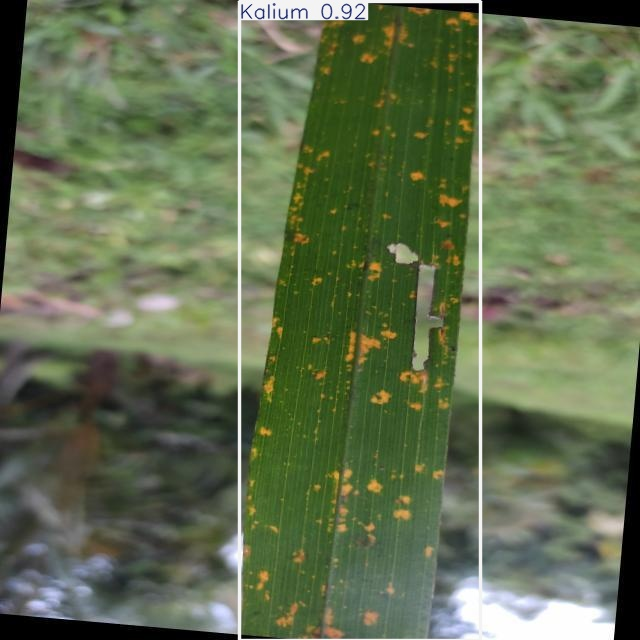Kalium: (240, 2, 481, 640)
